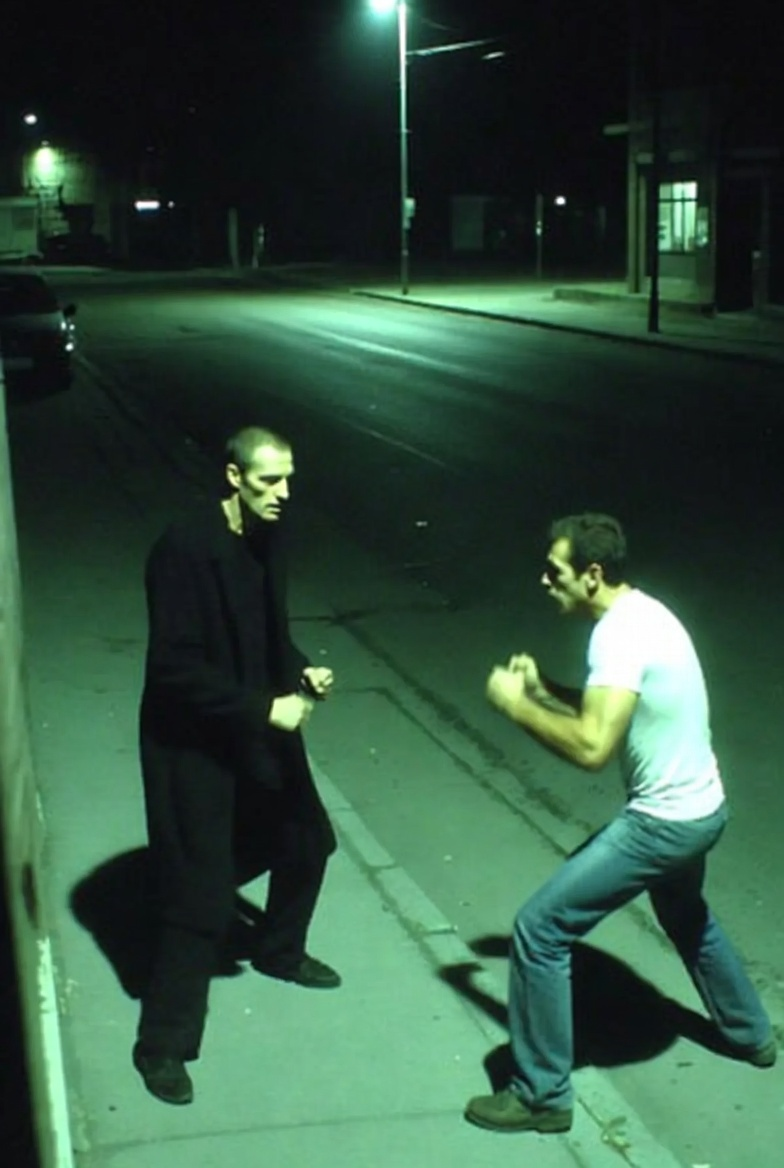Assault: (126, 425, 343, 1107)
Fighting: (462, 511, 781, 1134)
